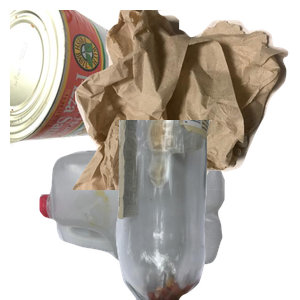glass: (113, 120, 300, 300)
metal: (10, 10, 159, 152)
plastic: (37, 147, 254, 300)
trash: (70, 10, 300, 190)
